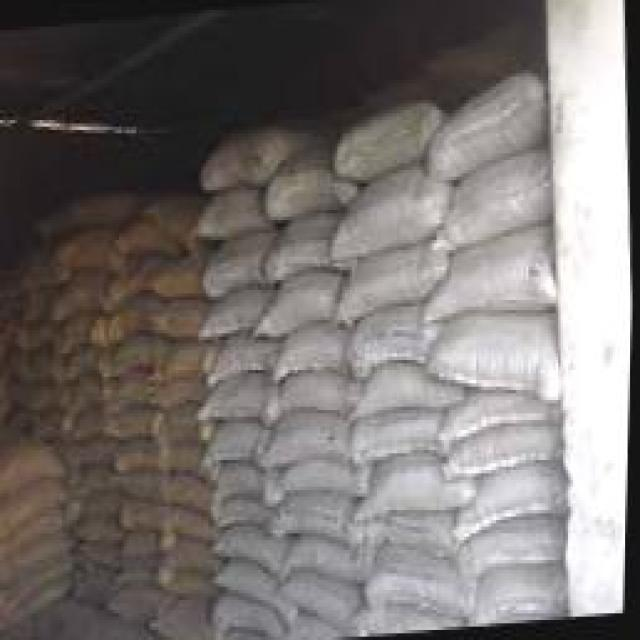gunny_bag: (425, 70, 541, 178), (425, 313, 564, 402), (425, 227, 558, 312), (443, 159, 550, 254), (336, 162, 439, 253), (458, 462, 564, 538), (357, 450, 470, 517), (335, 97, 426, 179), (367, 545, 473, 615), (340, 247, 436, 313), (462, 518, 564, 578), (448, 423, 559, 475), (225, 559, 300, 633), (470, 568, 567, 625), (264, 152, 356, 212), (348, 406, 440, 463), (350, 367, 451, 418), (262, 270, 341, 334), (352, 310, 432, 372), (266, 213, 348, 273), (441, 396, 551, 440), (201, 230, 274, 292), (266, 411, 347, 462), (195, 186, 272, 239), (2, 552, 69, 612), (202, 370, 278, 420), (283, 537, 370, 580), (0, 430, 69, 484), (274, 324, 345, 376), (215, 524, 285, 576), (0, 481, 66, 535), (286, 570, 359, 618), (272, 372, 357, 412), (202, 288, 269, 338), (54, 230, 126, 274), (279, 462, 366, 497), (1, 539, 68, 584), (149, 199, 198, 257), (206, 421, 265, 468), (153, 599, 216, 640), (158, 402, 218, 445), (103, 368, 150, 416), (107, 297, 163, 337), (166, 538, 222, 577), (108, 585, 164, 619), (164, 470, 215, 507), (162, 508, 219, 541), (52, 282, 97, 321), (165, 297, 203, 340), (158, 347, 206, 381), (64, 343, 102, 384), (112, 406, 160, 438), (122, 501, 169, 532), (120, 445, 167, 470), (80, 437, 120, 465), (80, 518, 122, 543)
